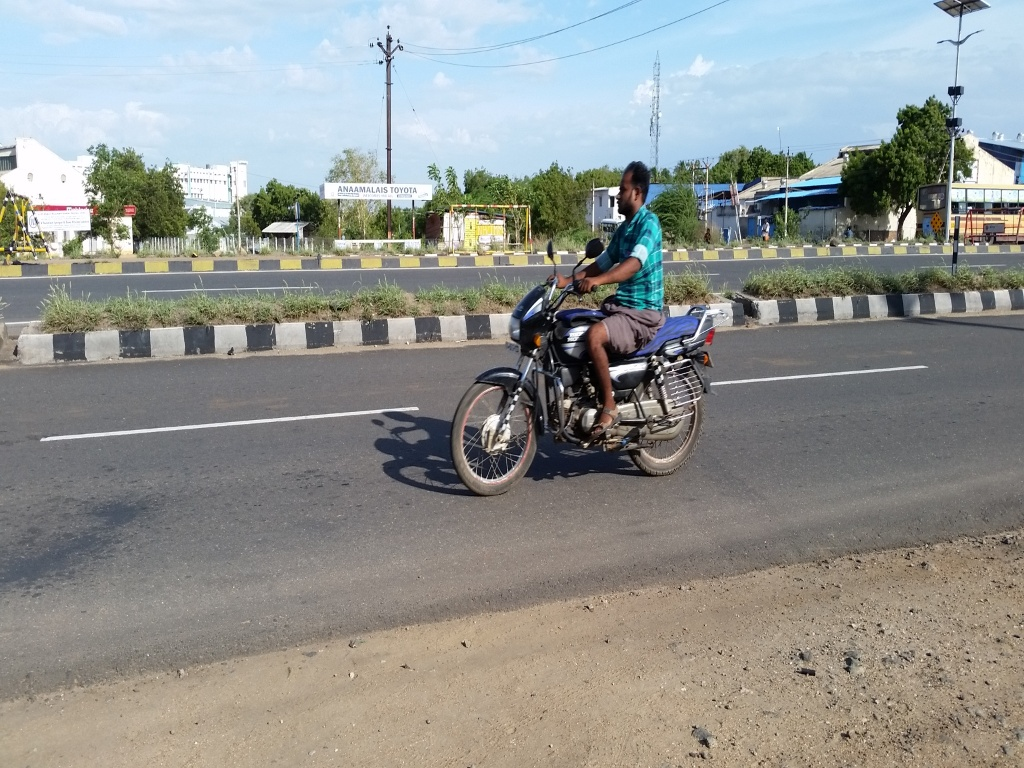biker: (436, 117, 743, 505)
nohelmet: (608, 150, 660, 235)
